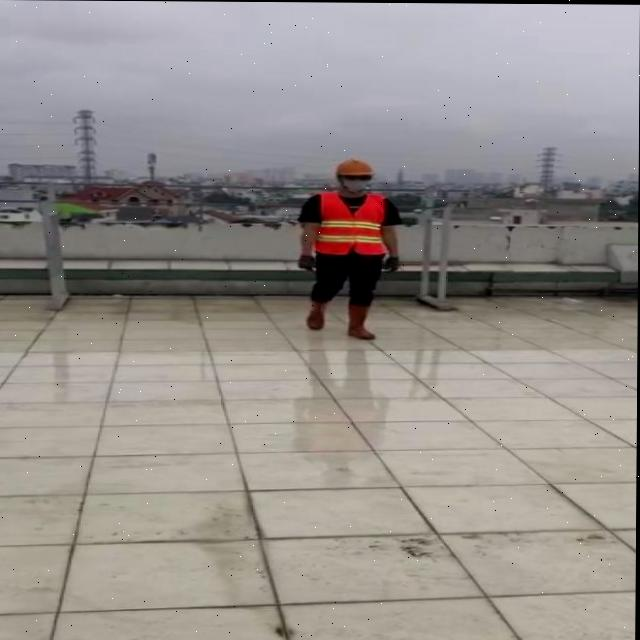Gloves: (298, 253, 315, 270), (383, 254, 399, 271)
Helmet: (334, 157, 374, 197)
Safety-Boot: (347, 303, 375, 338), (306, 298, 327, 329)
Safety-Vest: (314, 190, 387, 255)
